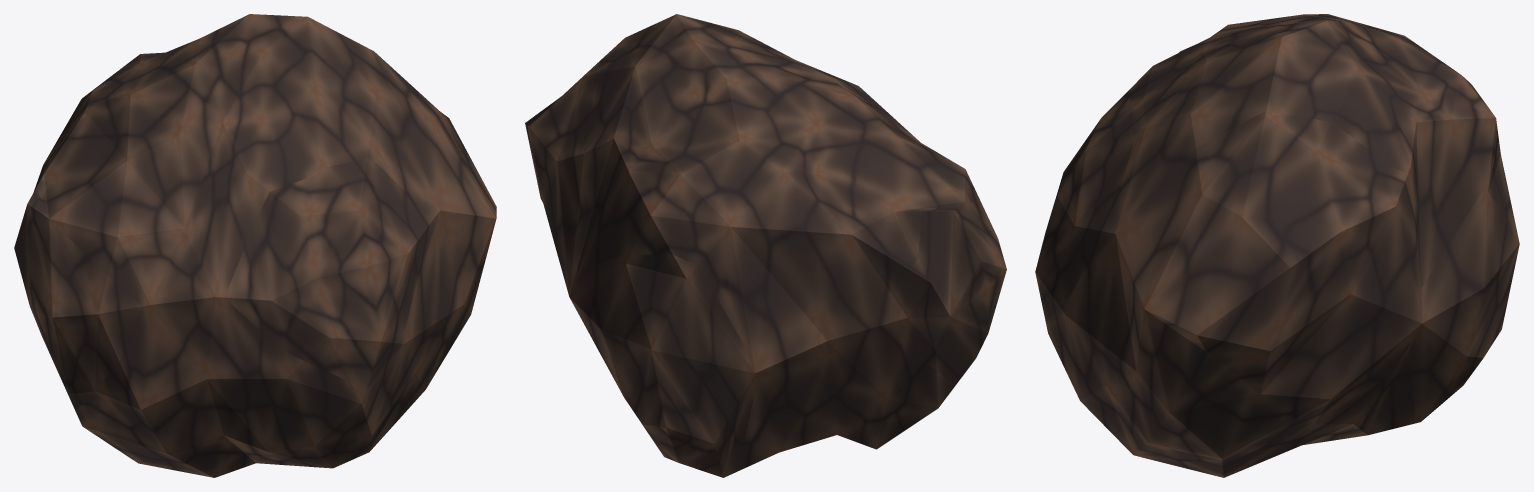
Rendered from truffle1.fbx.
3 views of the same model, side by side, from view 1: azimuth 30°, elevation 25°; view 2: azimuth 150°, elevation 25°; view 3: azimuth 270°, elevation 25° (orthographic). The views are drawn at different scales.
Visible parts, largest first — view 1: Truffle1; view 2: Truffle1; view 3: Truffle1.
Part boxes in pixels (box(x1,y1,x2,y2)): Truffle1: box(14, 14, 496, 477); Truffle1: box(525, 14, 1006, 477); Truffle1: box(1035, 14, 1519, 477).
Size of the model in its own units: 12.88 by 11.19 by 11.21.
